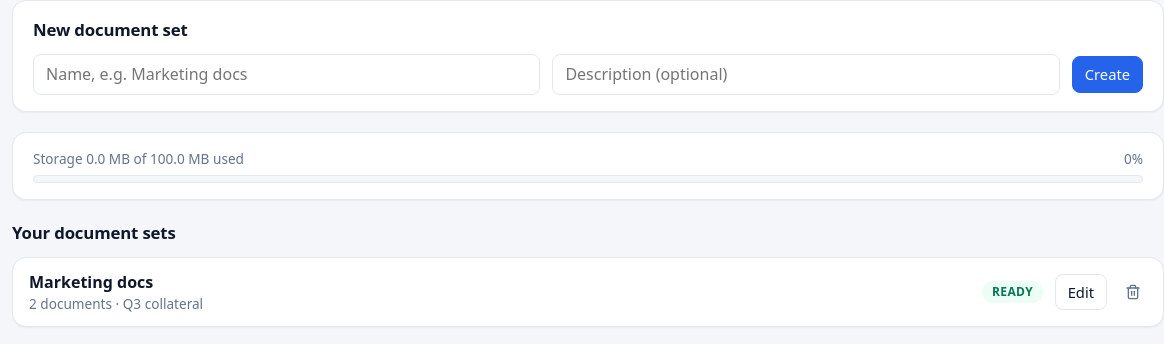
Test: DashboardPage › cancels the inline edit without saving
Expected: the text "Marketing docs" is shown, [29,271,153,293]
Click the button "Edit" at (1081, 292), box [1055,274,1107,310]
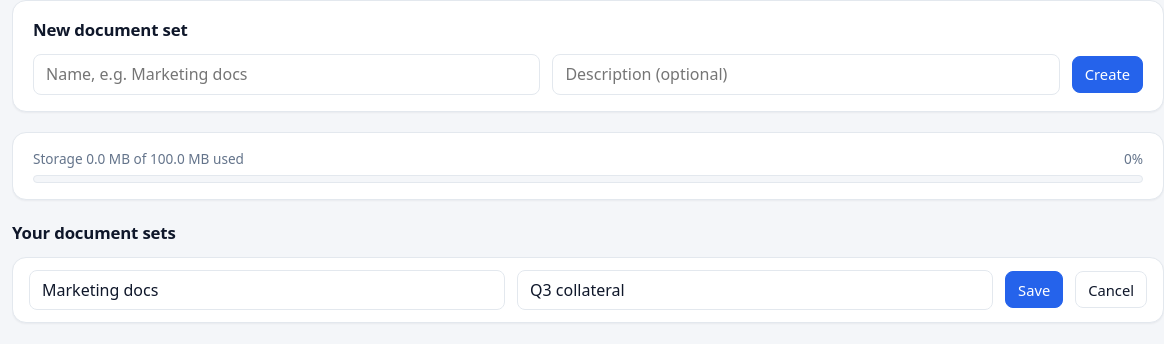
Replace the text in the 1st field with placeholder "Name" with "Should not persist" at (267, 290), box [29,270,505,310]
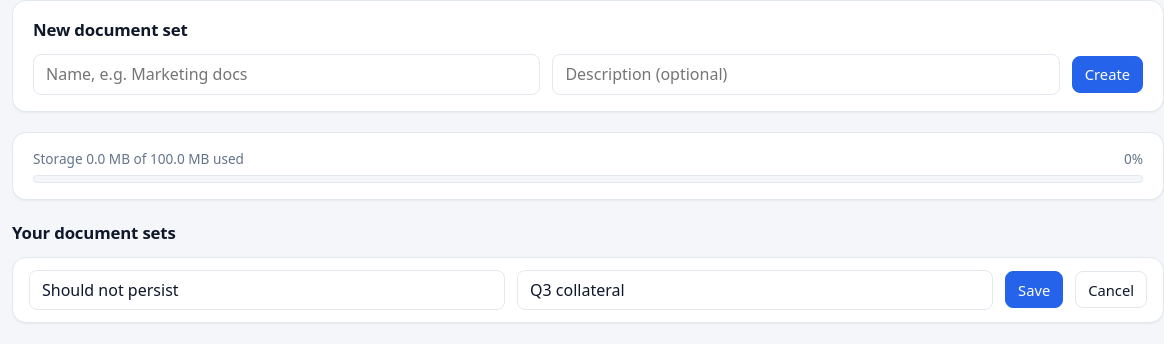
Click the button "Cancel" at (1111, 290), box [1075,272,1147,308]
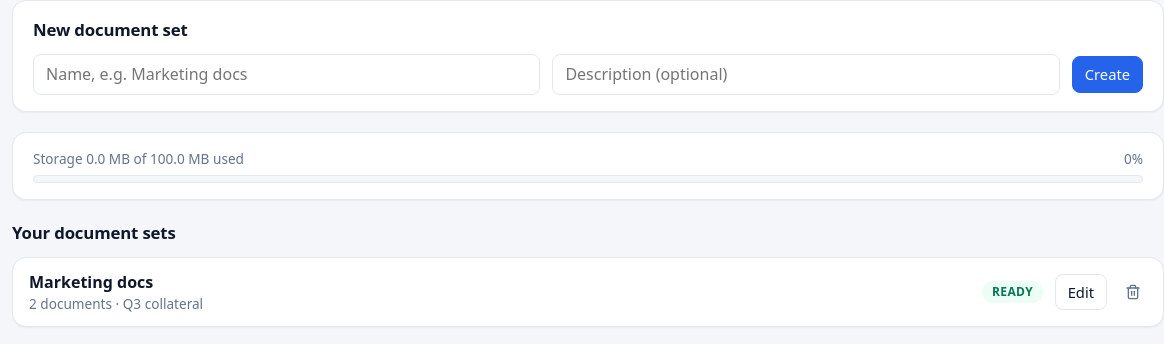
Result: the button "Edit" is shown at [1055,274,1107,310]
